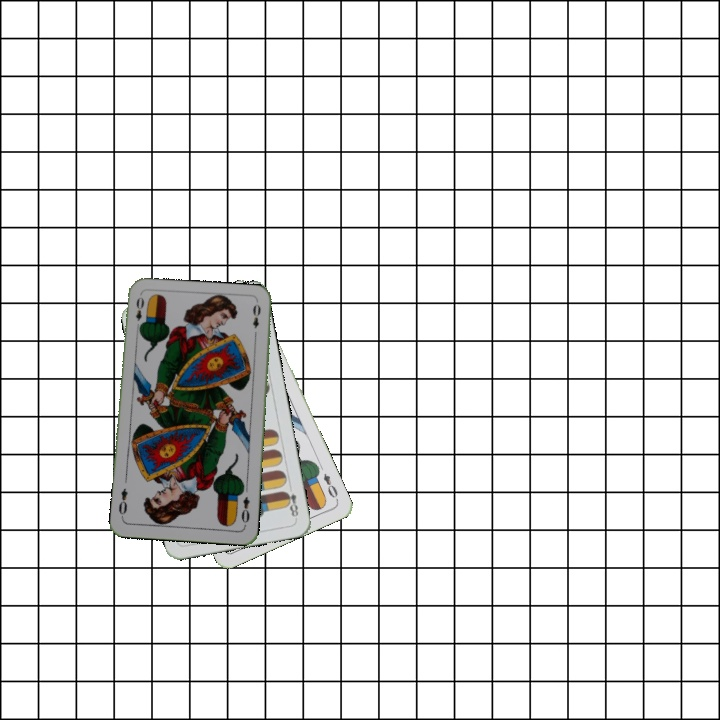E8: (280, 487, 301, 521)
EO: (319, 469, 341, 503), (132, 293, 147, 333), (237, 493, 253, 525)
